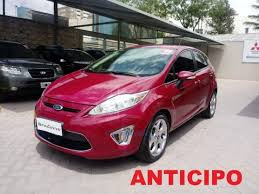car: (35, 44, 218, 165), (1, 39, 62, 97), (41, 45, 95, 79)
